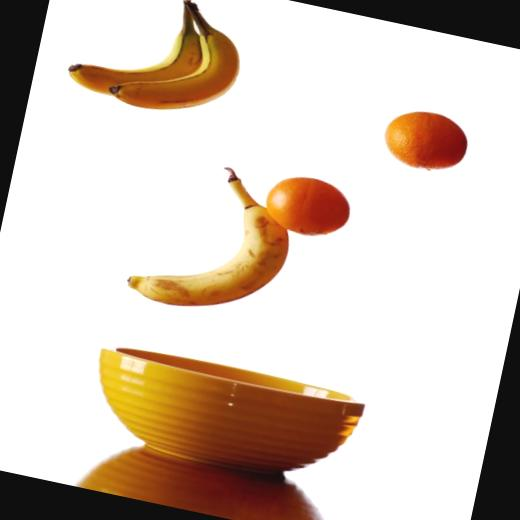Banana: (122, 157, 303, 330), (60, 0, 210, 113)
Grape: (255, 162, 359, 240), (376, 99, 474, 175)
